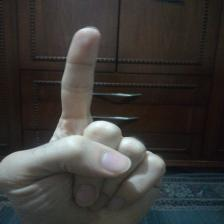one: (11, 26, 166, 219)
